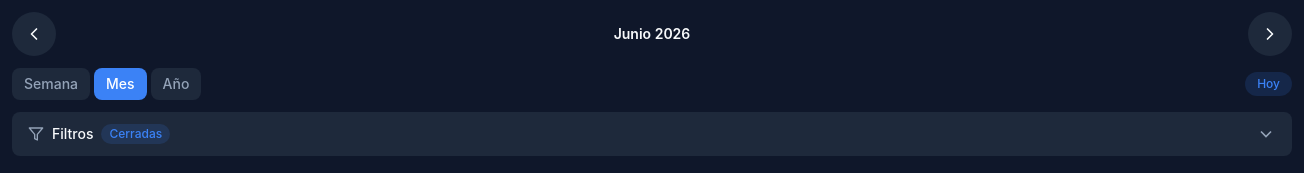
Test: HistorialFiltros.svelte › panel colapsable de filtros › al volver a hacer clic en "Filtros" el panel se colapsa (aria-expanded false)
Click the button "Filtros Cerradas". click: (73, 134)
box: 12,112 -> 1292,156
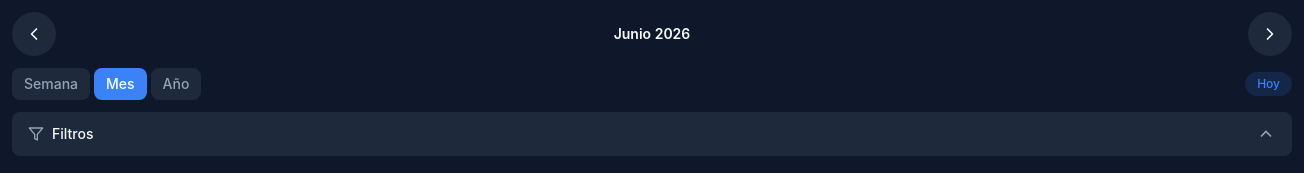
Expected: the button "Filtros" is expanded
Click the button "Filtros". click: (73, 134)
box: 12,112 -> 1292,156
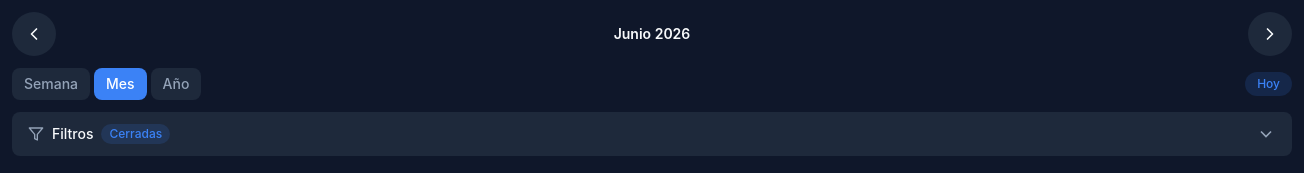
Expected: the button "Filtros Cerradas" is collapsed, 12,112 -> 1292,156
